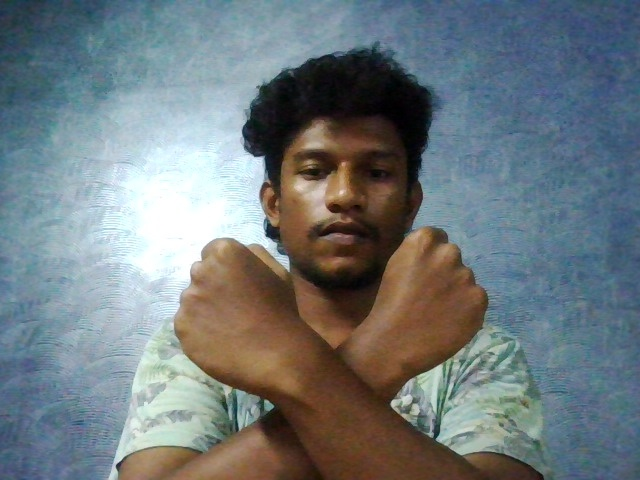danger: (137, 204, 551, 445)
